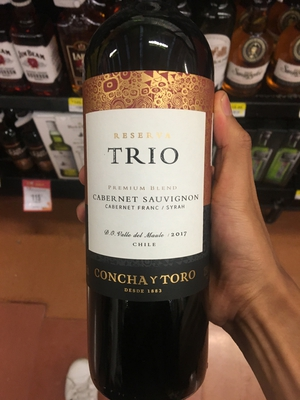trio cabernet sauvignon: (71, 10, 231, 386)
